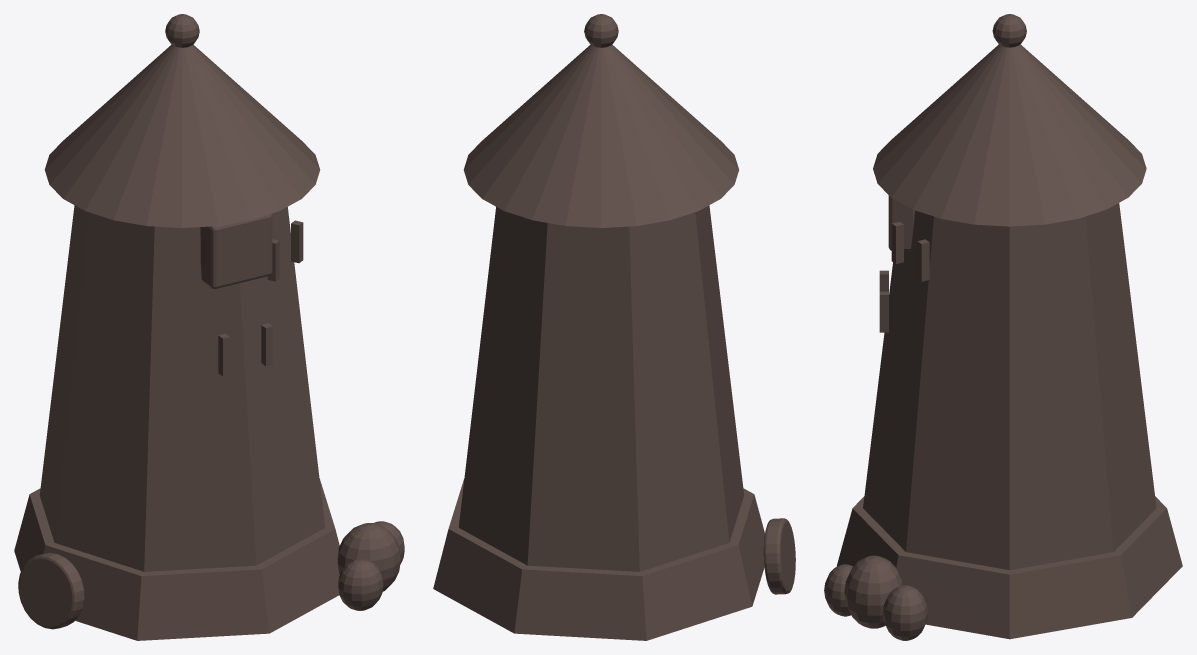
Rendered from windmill.ol.glb.
The picture shows the model from 3 angles, left to right: view 1: azimuth 30°, elevation 25°; view 2: azimuth 150°, elevation 25°; view 3: azimuth 270°, elevation 25°; orthographic projection.
Parts seen in each view (by area): view 1: outline; view 2: outline; view 3: outline.
Part boxes in pixels (left/top/right/bottom): outline: left=14, top=14, right=404, bottom=640; outline: left=433, top=14, right=795, bottom=640; outline: left=824, top=14, right=1182, bottom=640.
Size of the model in its own units: 7.45 by 11.7 by 6.87.
